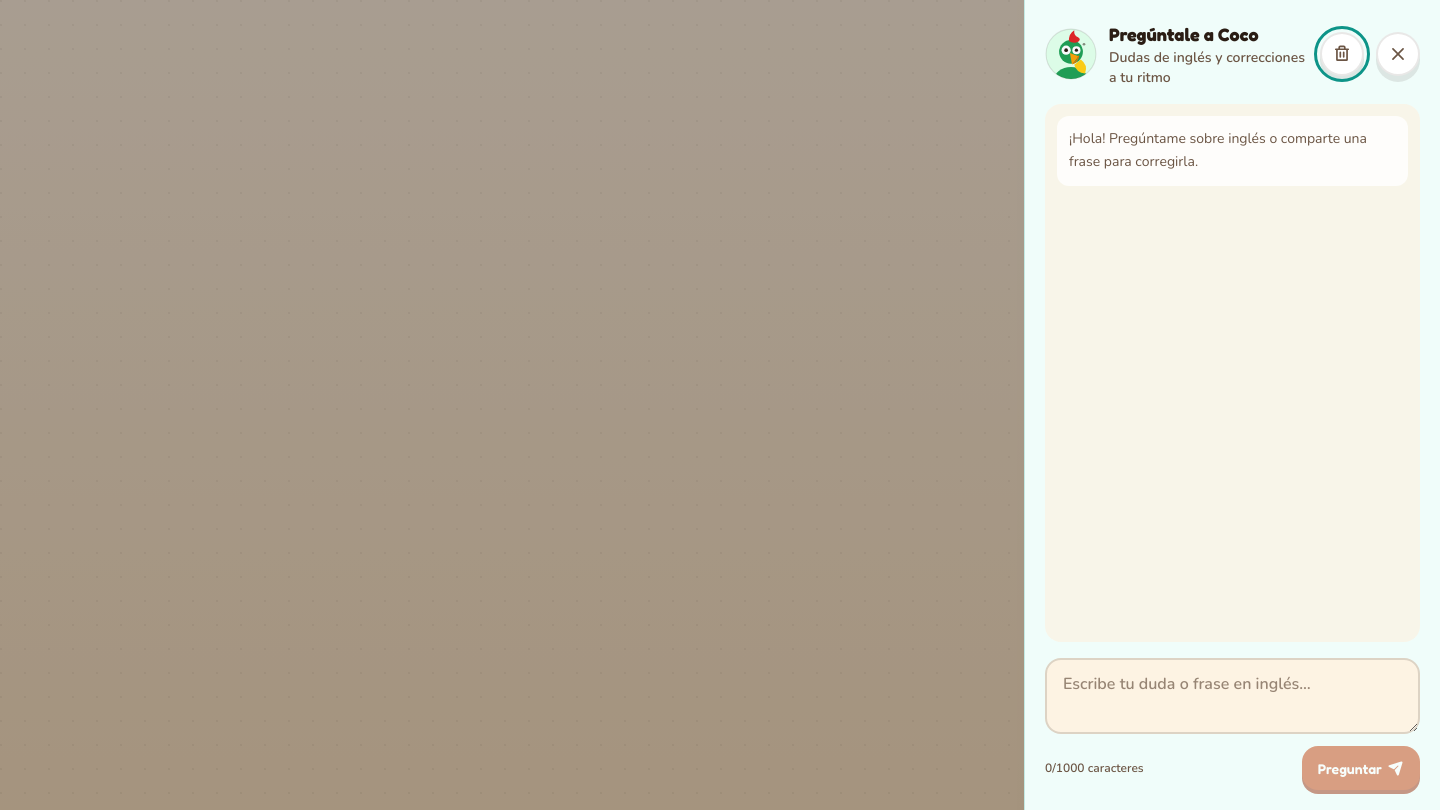
Test: TutorPanel › retries provider failure without duplicating the question
The image size is (1440, 810).
Type "What does tired mean?" into the text box named "Tu pregunta para Coco" at (1232, 696), box [1045, 658, 1420, 734]
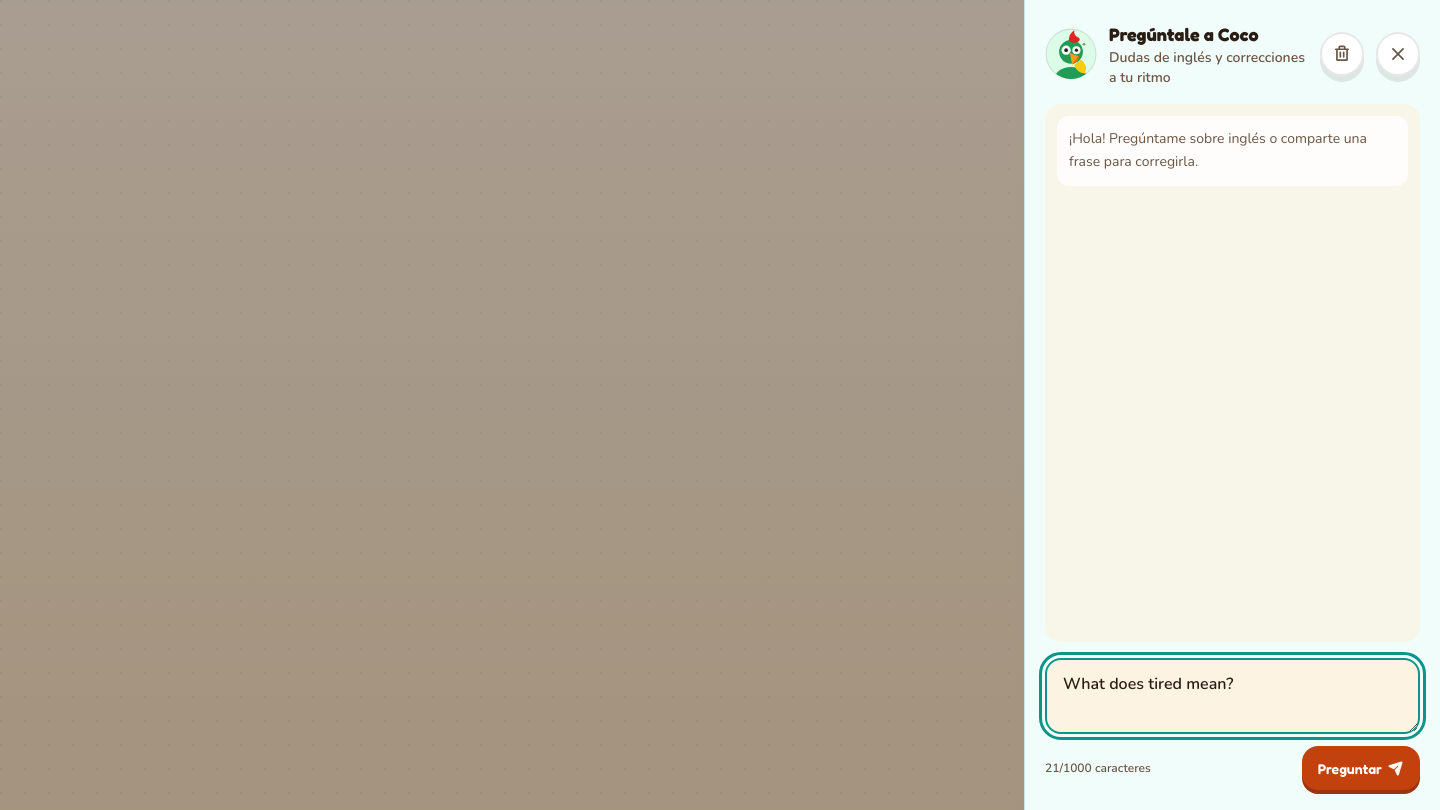
Click the button "Preguntar" at (1361, 768), box [1302, 746, 1420, 790]
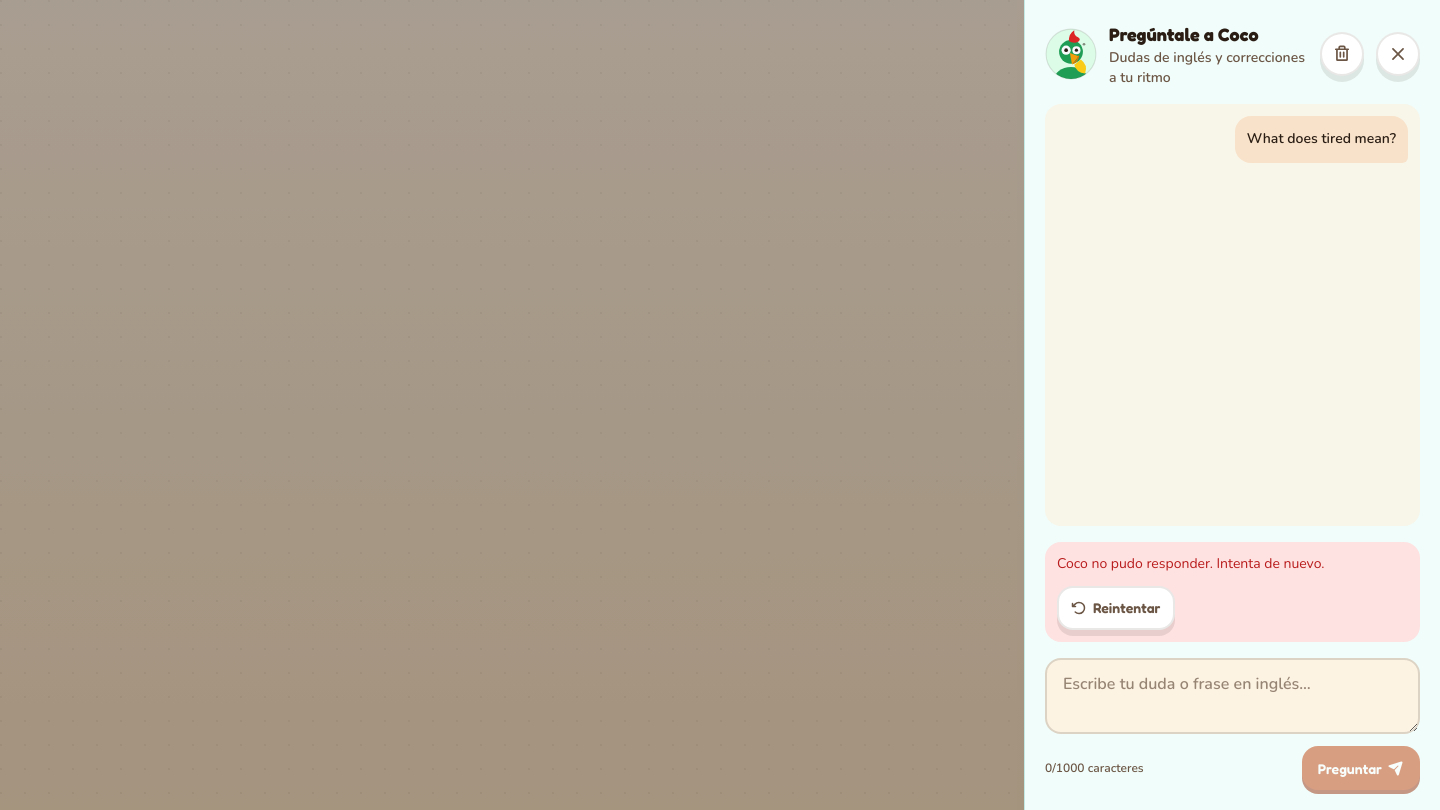
Check: the message "Coco no pudo responder. Intenta de nuevo. Reintentar" is shown, box [1045, 542, 1420, 642]
Click the button "Reintentar" at (1116, 608), box [1057, 586, 1174, 630]
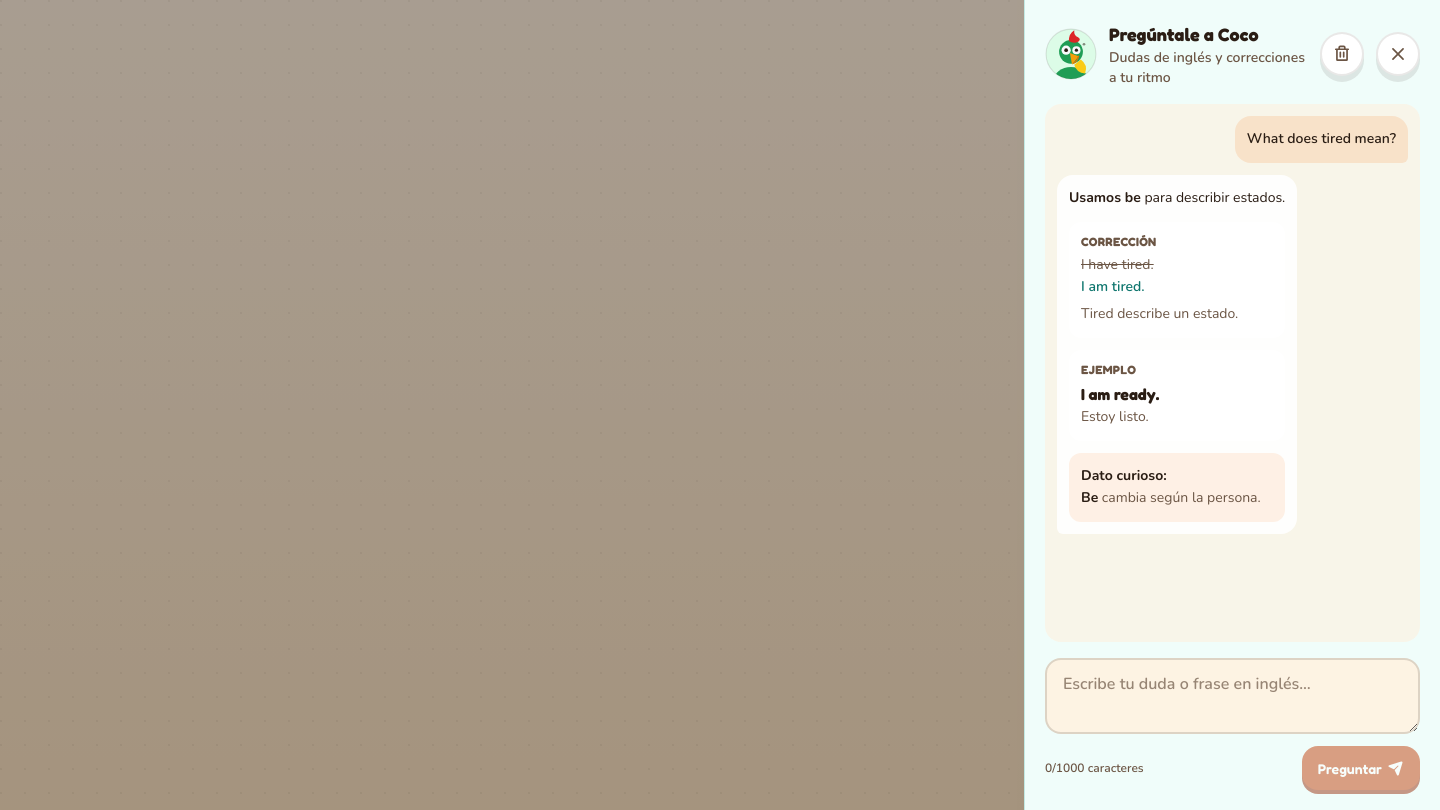
Check: the text "What does tired mean?" is shown once, box [1247, 128, 1396, 151]
Check: the text "Usamos be" is shown, box [1069, 188, 1141, 207]
